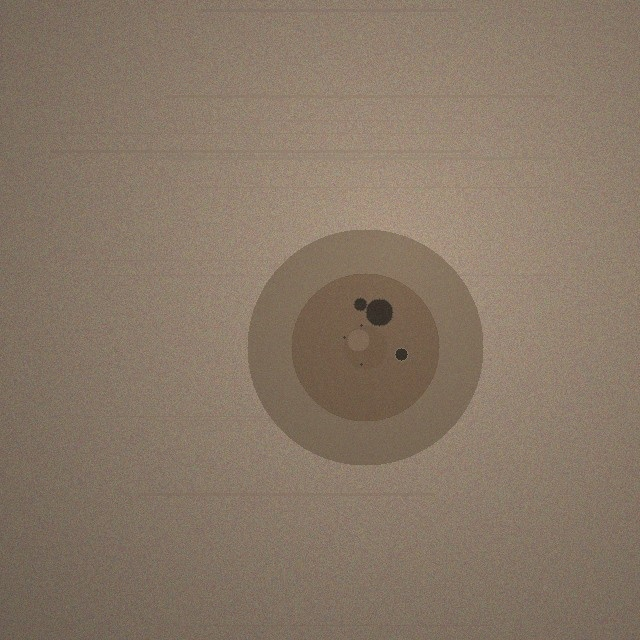shrinkage: (247, 229, 483, 465)
